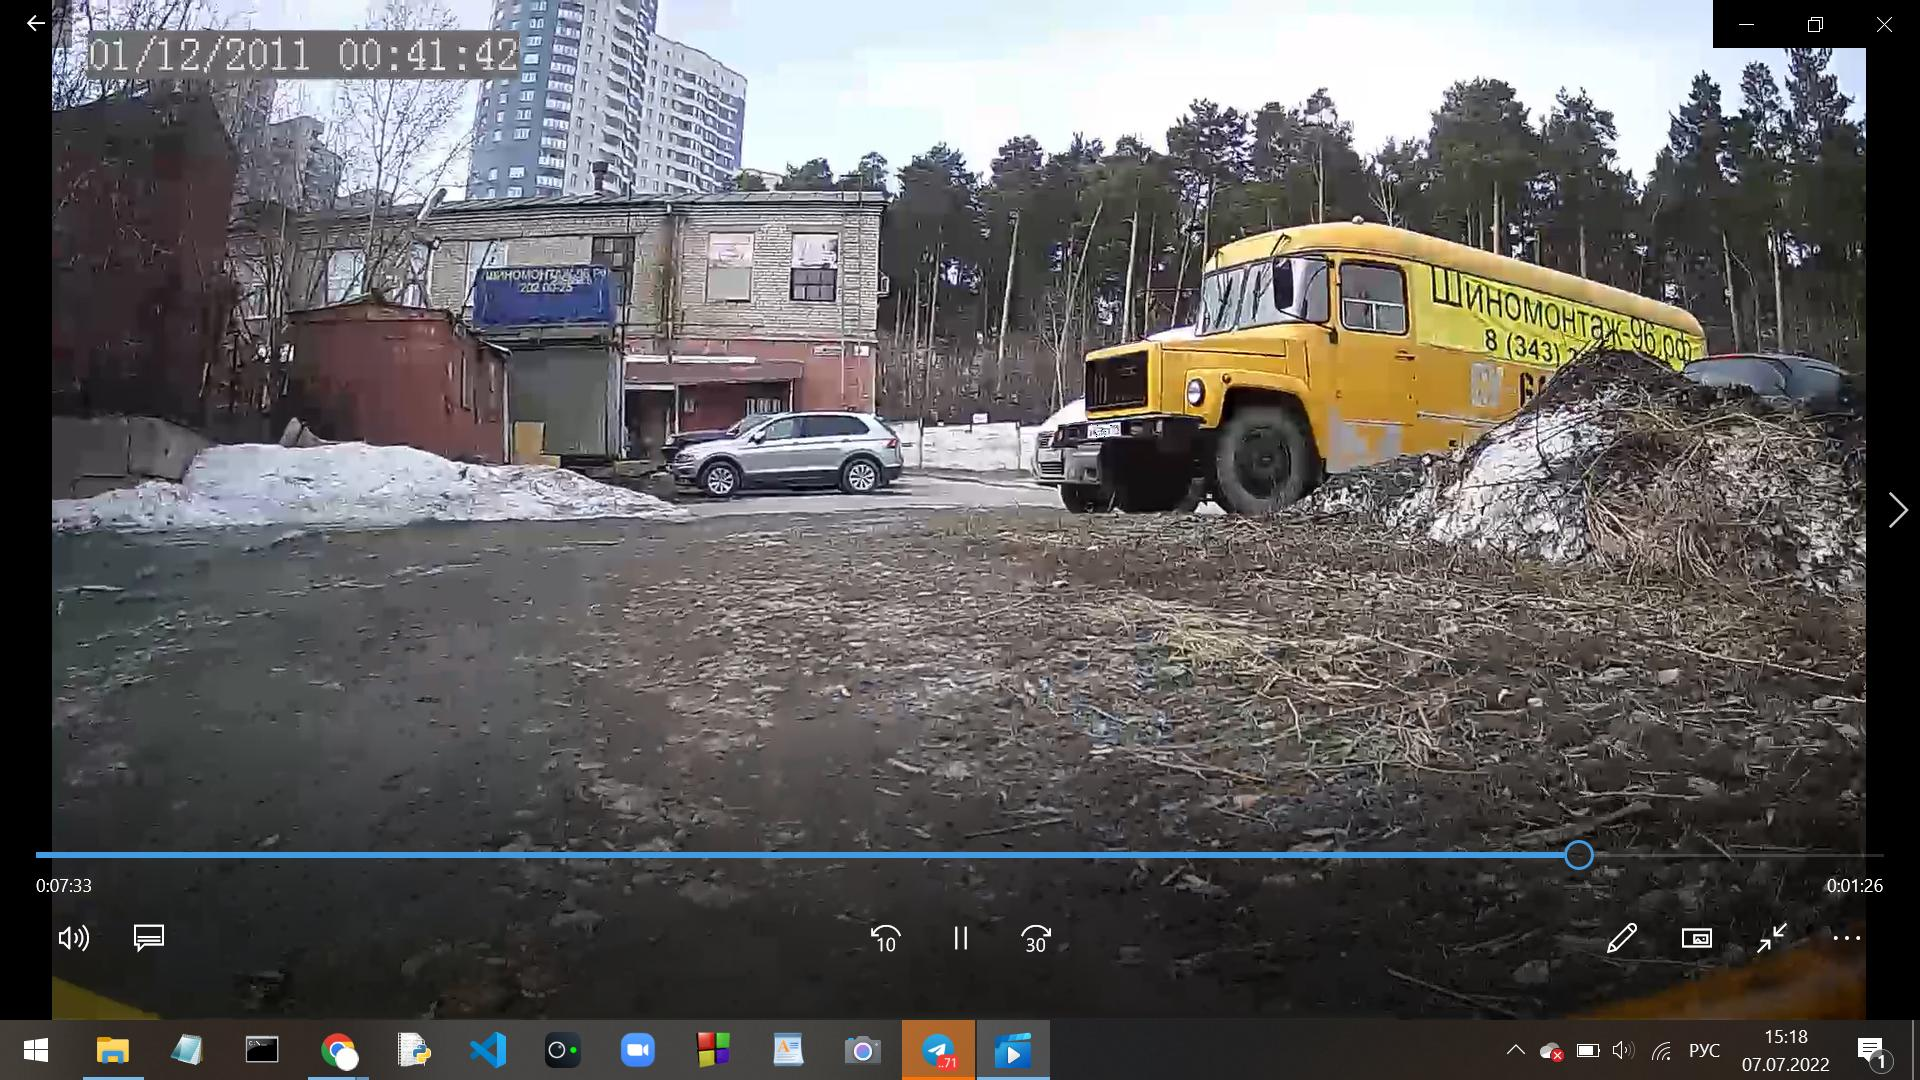plate: (1090, 424, 1120, 438)
